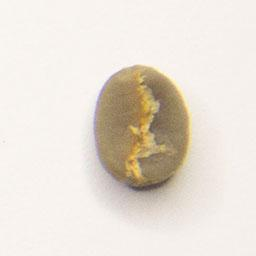premium: (90, 61, 193, 191)
